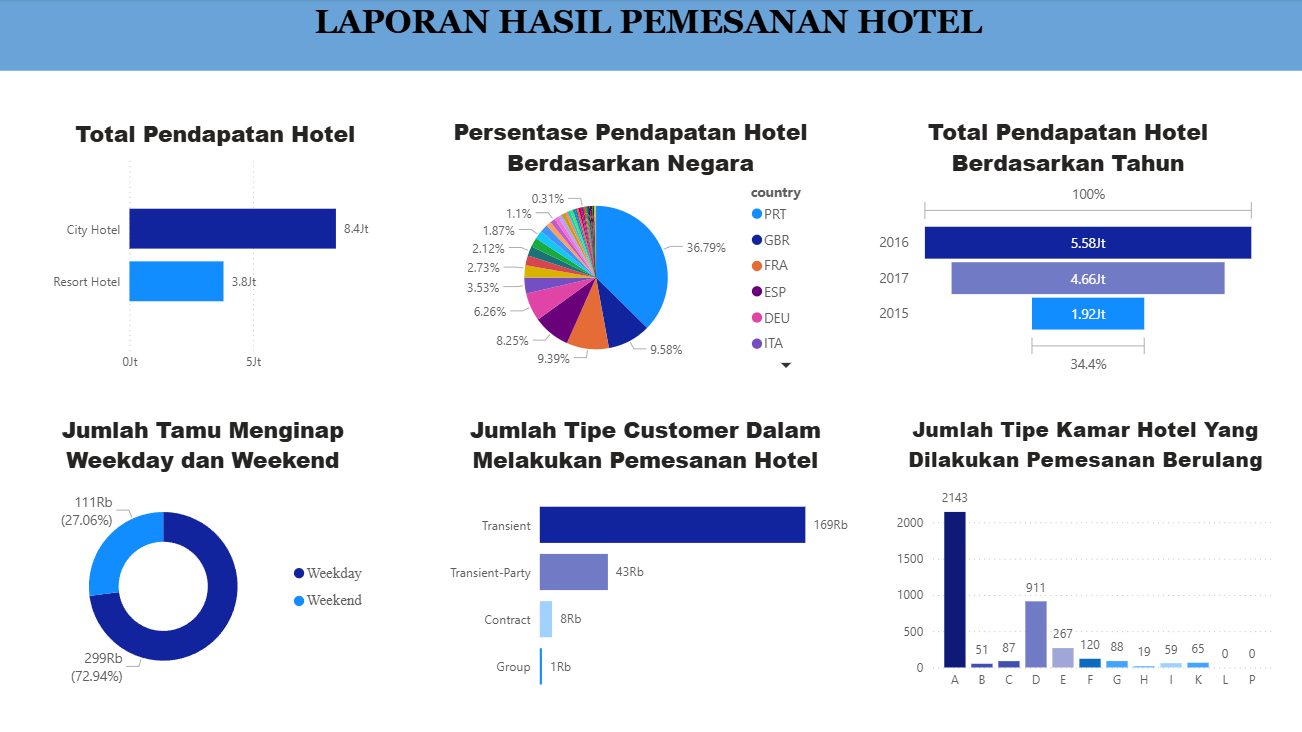

This screenshot's page, from the dashboard's own definition file:
{"tool":"powerbi","page":{"name":"Halaman 1","canvas":[1280,720],"ordinal":0},"visuals":[{"type":"donutChart","title":"Jumlah Tamu Menginap Weekday dan Weekend","fields":{"Y":["Sum(dw_hotel fact_booking.stays_in_week_nights)","Sum(dw_hotel fact_booking.stays_in_weekend_nights)"]},"box":[30.2,407,339.5,277.9],"z":0},{"type":"barChart","title":"Total Pendapatan Hotel","fields":{"Category":["dw_hotel fact_booking.hotel"],"Y":["Sum(dw_hotel fact_booking.adr)"]},"box":[43,117.4,339.5,257],"z":1000},{"type":"textbox","box":[0,0,1280.2,70.9],"z":1003},{"type":"pieChart","title":"Persentase Pendapatan Hotel Berdasarkan Negara","fields":{"Category":["dw_hotel dim_customer.country"],"Y":["Sum(dw_hotel fact_booking.adr)"]},"box":[429.1,116.3,379.1,255.8],"z":1004},{"type":"funnel","title":"Total Pendapatan Hotel Berdasarkan Tahun","fields":{"Y":["Sum(dw_hotel fact_booking.adr)"],"Category":["dw_hotel dim_date.arrival_date_year"]},"box":[857,116.3,379.1,257],"z":1005},{"type":"barChart","title":"Jumlah Tipe Customer Dalam Melakukan Pemesanan Hotel","fields":{"Category":["hotel hotel_bookings.customer_type"],"Y":["Sum(hotel hotel_bookings.adults)"]},"box":[429.1,407,408.1,289.5],"z":1006},{"type":"columnChart","title":"Jumlah Tipe Kamar Hotel Yang Dilakukan Pemesanan Berulang","fields":{"Category":["dw_hotel dim_room_type.assigned_room_type"],"Y":["Sum(dw_hotel dim_customer.is_repeated_guest)"]},"box":[874.4,407,379.1,277.9],"z":1007}]}

Visuals, with their boxes in screenshot pixels (x1, y1, x2, y2), scaled from the page's 1280x720 canvas onto the 1302x732 screenshot:
"Jumlah Tamu Menginap Weekday dan Weekend" donutChart: 31 414 376 696
"Total Pendapatan Hotel" barChart: 44 119 389 381
textbox: 0 0 1301 72
"Persentase Pendapatan Hotel Berdasarkan Negara" pieChart: 436 118 822 378
"Total Pendapatan Hotel Berdasarkan Tahun" funnel: 872 118 1257 380
"Jumlah Tipe Customer Dalam Melakukan Pemesanan Hotel" barChart: 436 414 852 708
"Jumlah Tipe Kamar Hotel Yang Dilakukan Pemesanan Berulang" columnChart: 889 414 1275 696
